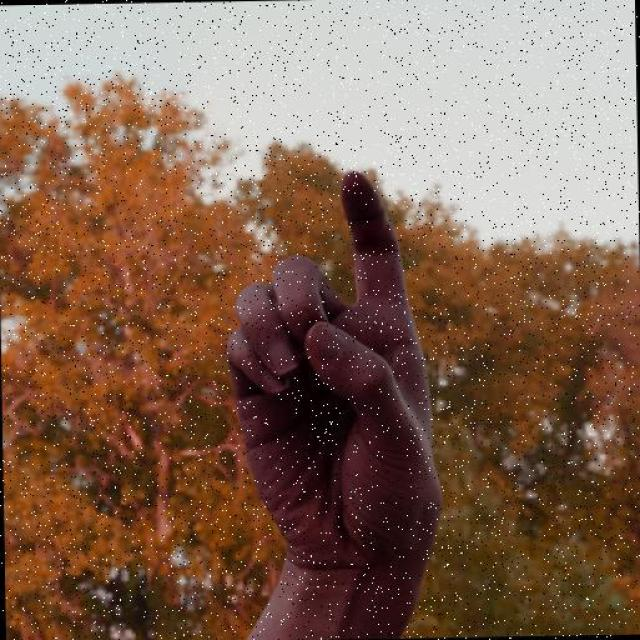X: (218, 165, 448, 594)
